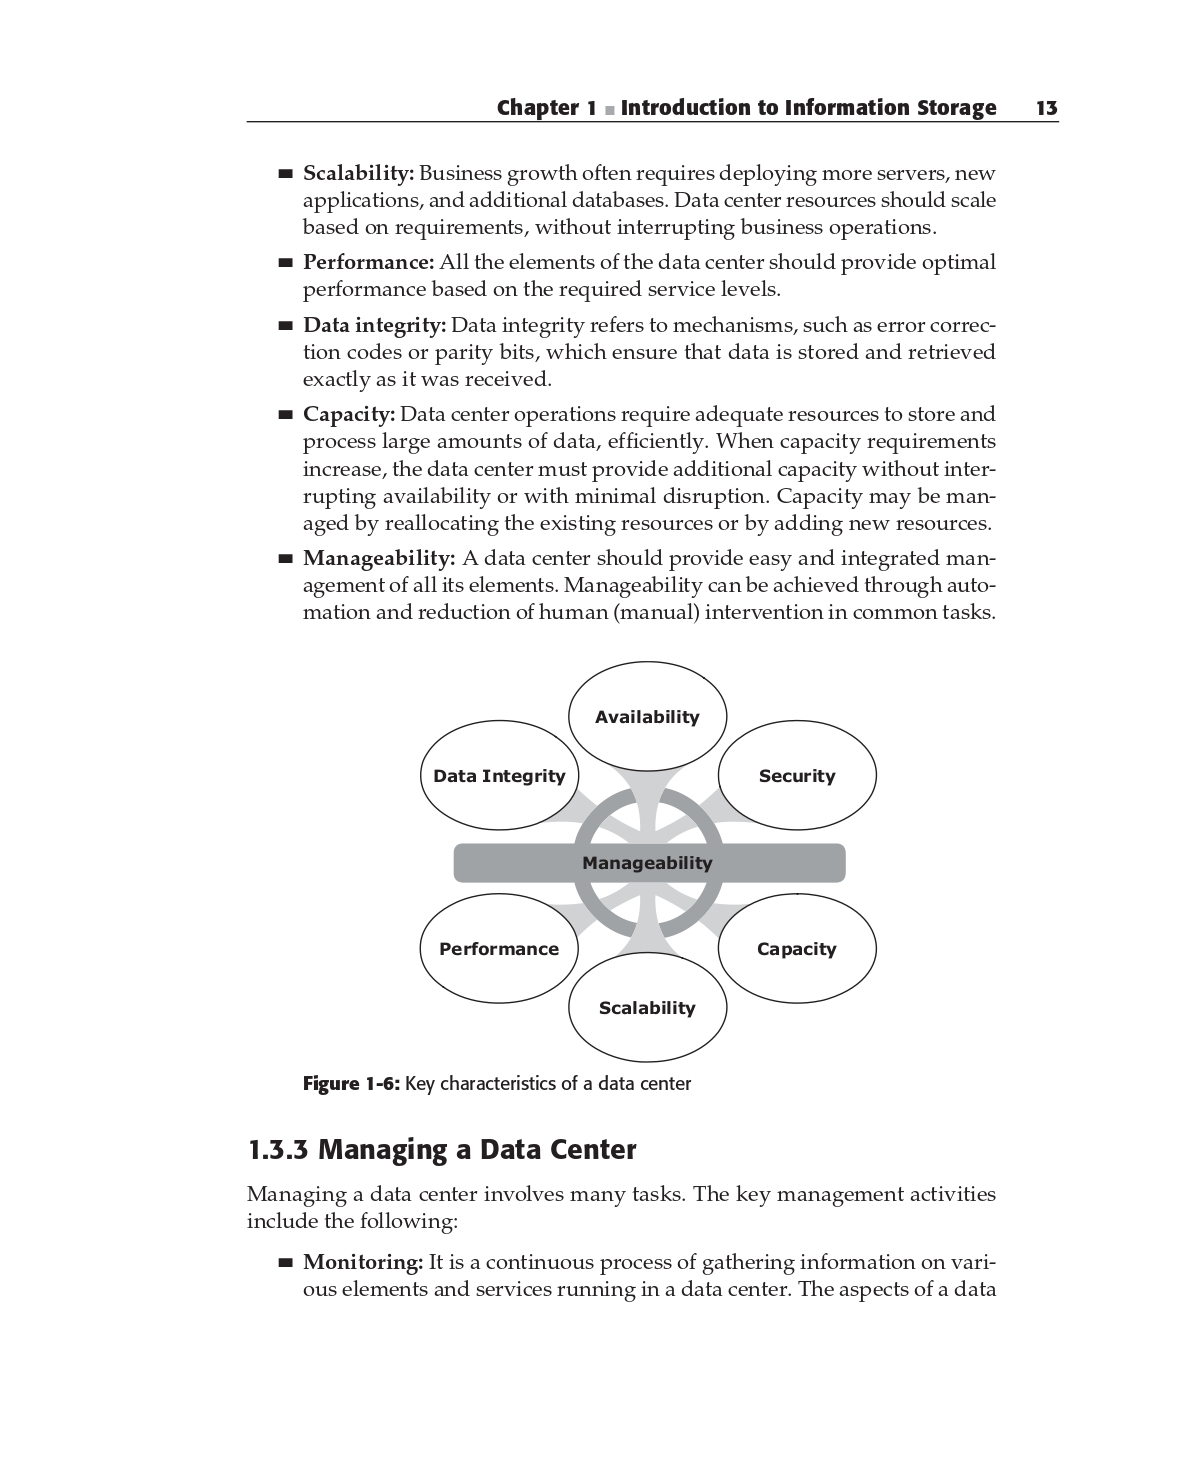Image: (412, 655, 891, 1069)
Paragraph: (280, 145, 1016, 640), (280, 1241, 1019, 1305), (230, 1177, 1019, 1235), (485, 93, 1075, 131), (274, 1051, 709, 1098), (236, 1130, 655, 1171)
